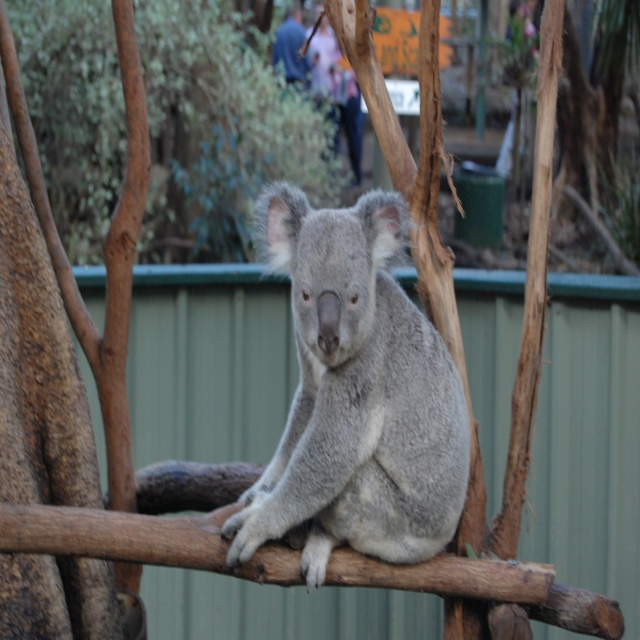Koala: (221, 180, 471, 592)
